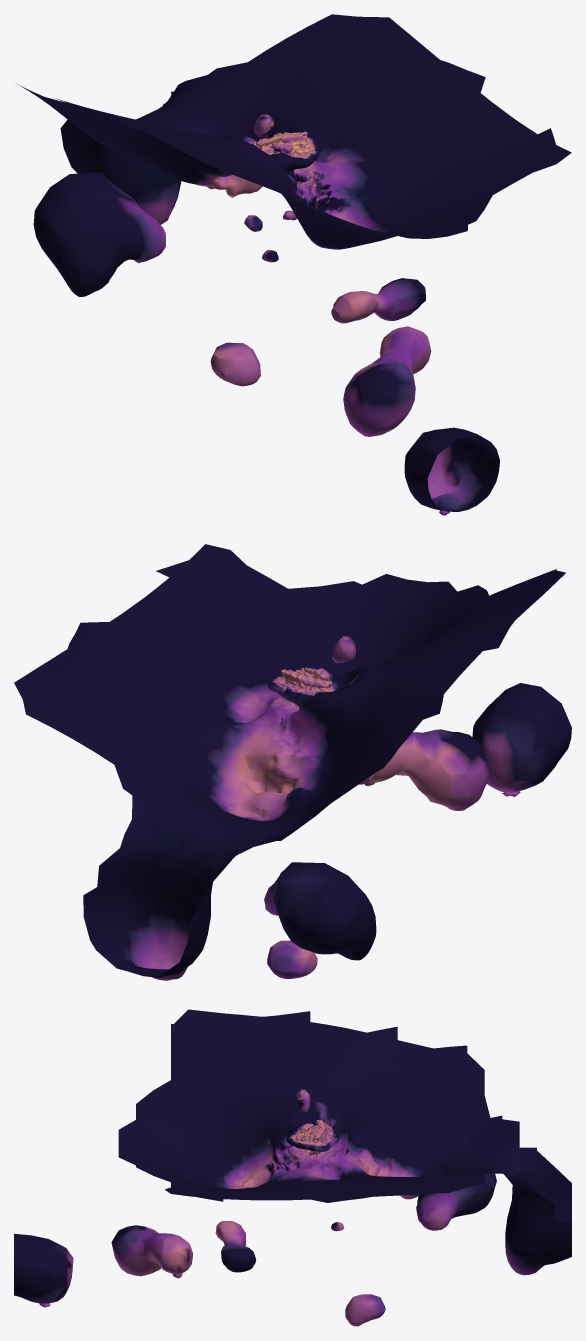
Rendered from thermal-mesh.glb.
The picture shows the model from 3 angles, top to bottom: view 1: azimuth 30°, elevation 25°; view 2: azimuth 150°, elevation 25°; view 3: azimuth 270°, elevation 25°; orthographic projection. The views are drawn at different scales.
Visible parts, largest first — view 1: thermal_textured_mesh; view 2: thermal_textured_mesh; view 3: thermal_textured_mesh.
Part boxes in pixels (x1,y1,x2,y2): thermal_textured_mesh: (16,14,571,515); thermal_textured_mesh: (14,544,571,980); thermal_textured_mesh: (14,1009,571,1326).
Size of the model in its own units: 1216 by 1013 by 1980.
